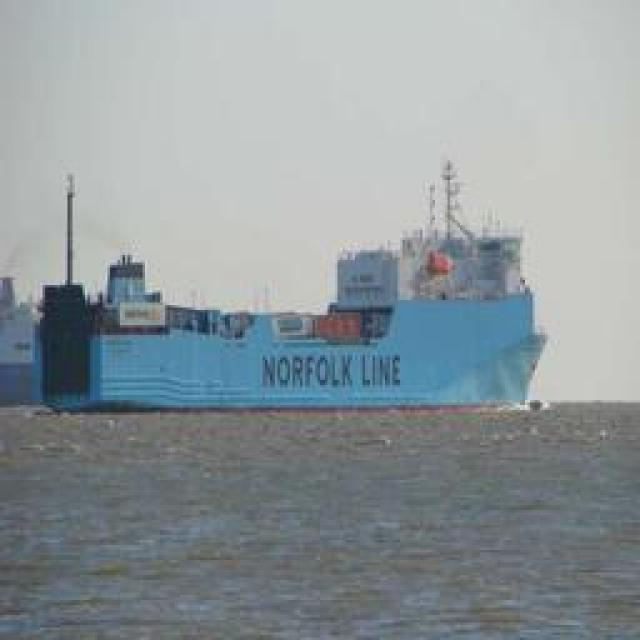CIV_Ship: (22, 230, 540, 410)
